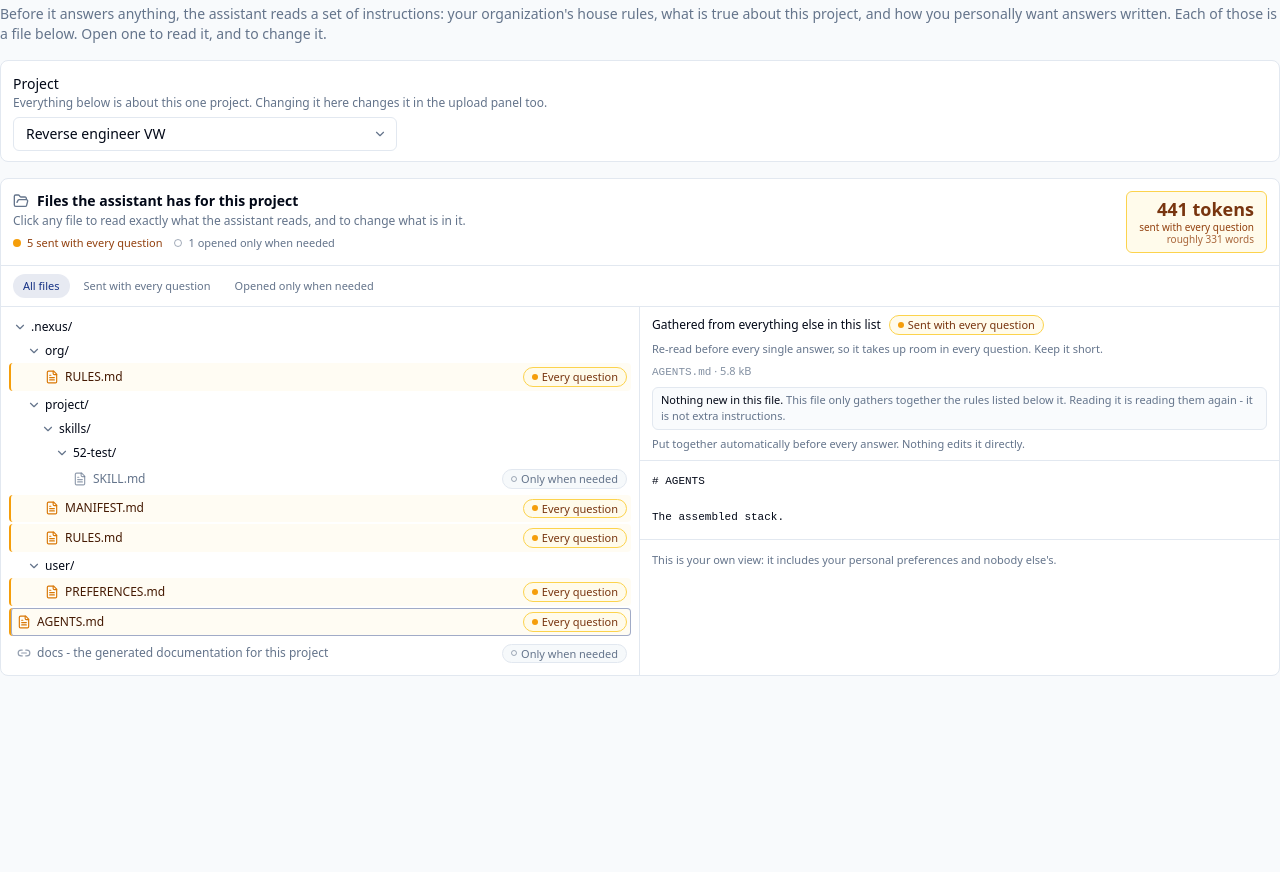
Test case: ProjectStructurePanel › puts the organization editor in the pane that shows the organization file
Click the 1st button "RULES.md Every question" at coordinates (94, 376), box [9,363,631,391]
(page scrolled)
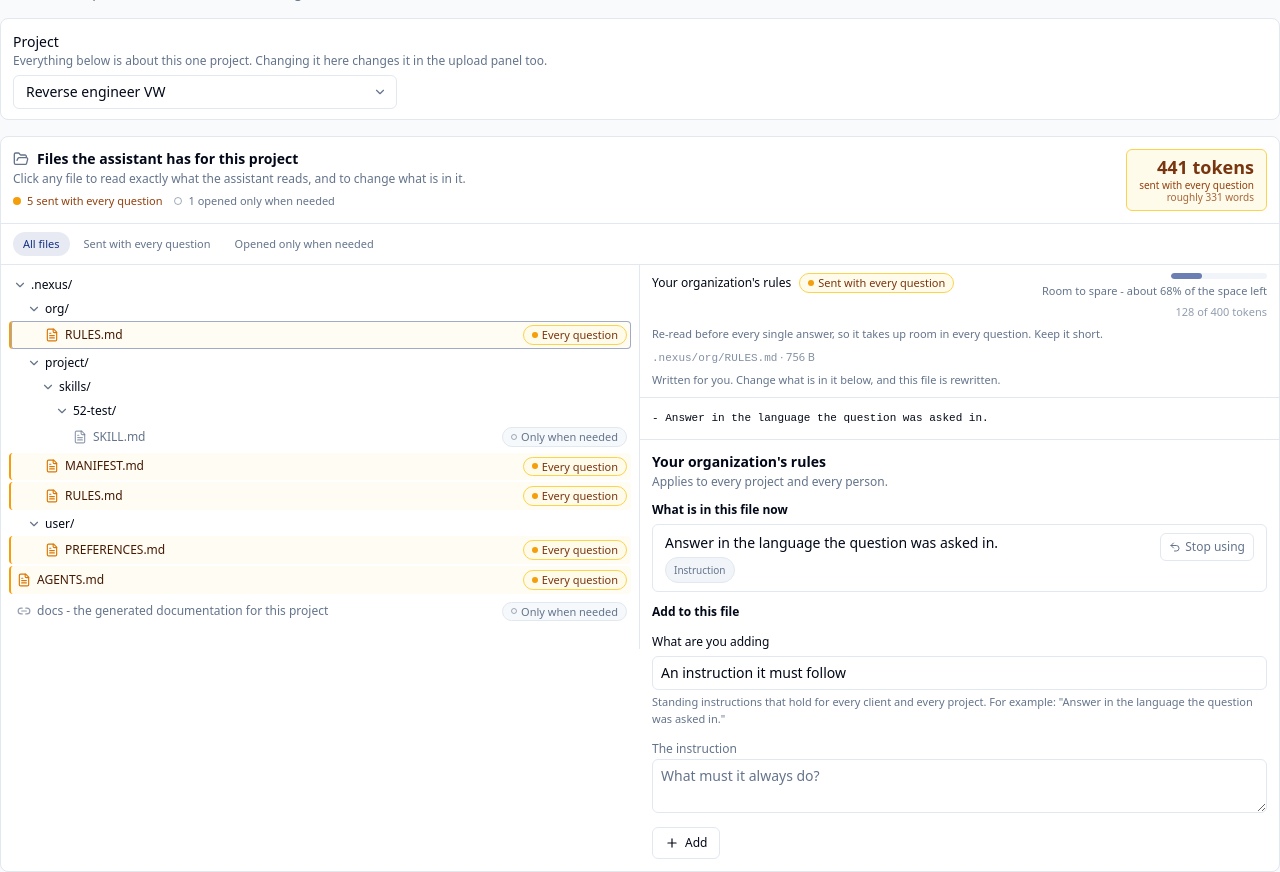
Check: the heading "Your organization's rules" is shown, box [652,452,826,471]
Check: the text "Applies to every project and every person." is shown, box [652,473,888,490]
Check: the text "Answer in the language the question was asked in." is shown, box [665,533,998,552]
